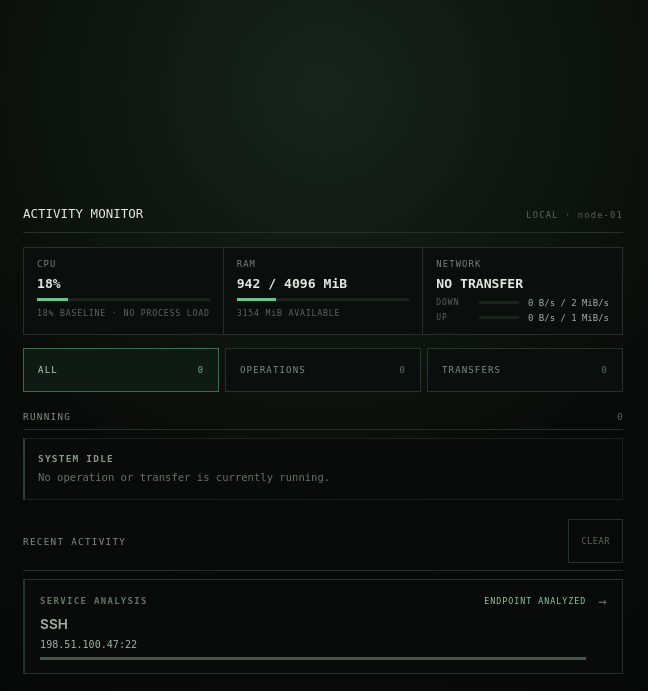
Activity detail: finite operations › claims no resource ownership for work that has ended
Click the button with class "am-row". click: (94, 601)
box: [23,579,623,674]
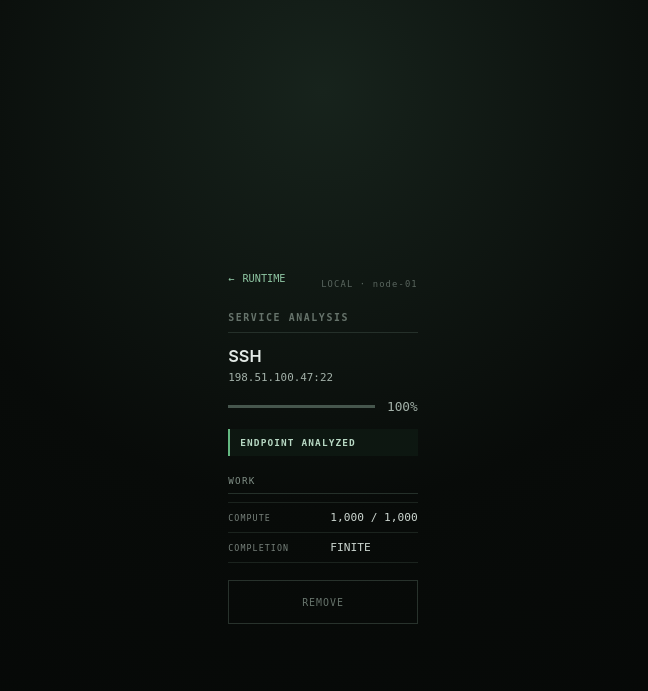
Result: the text "CPU" is gone
Result: the text "RAM" is gone
